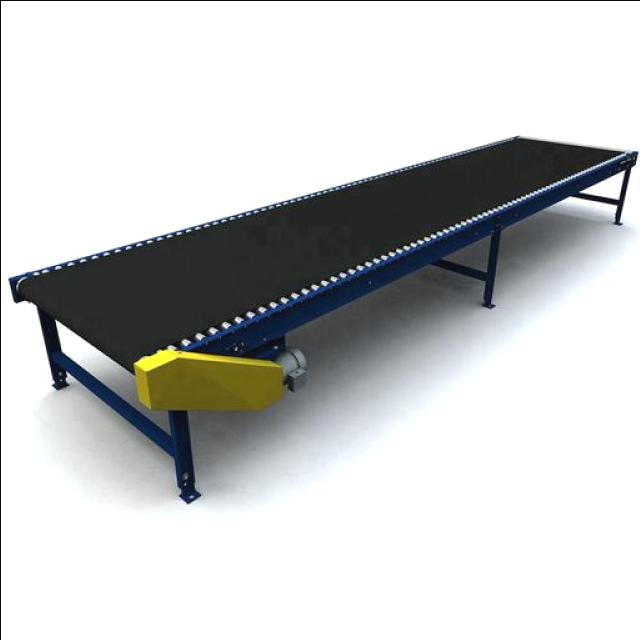conveyor: (16, 122, 640, 373)
